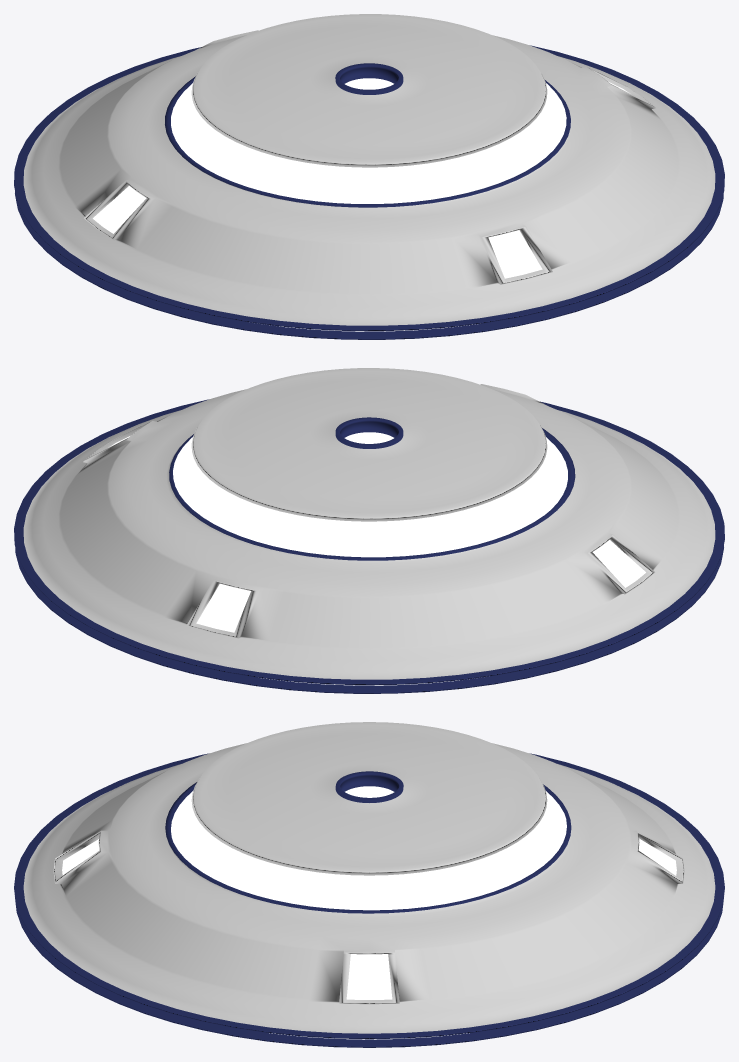
Rendered from UFO.gltf.
3 renders of one model, top to bottom at view 1: azimuth 30°, elevation 25°; view 2: azimuth 150°, elevation 25°; view 3: azimuth 270°, elevation 25°, orthographic.
Parts seen in each view (by area): view 1: Sphere; view 2: Sphere; view 3: Sphere.
Part boxes in pixels (left/top/right/bottom): Sphere: left=14, top=14, right=724, bottom=339; Sphere: left=14, top=368, right=724, bottom=693; Sphere: left=14, top=722, right=724, bottom=1047.
Bounding box in the file's own units: 2.02 × 0.6099 × 2.02.
